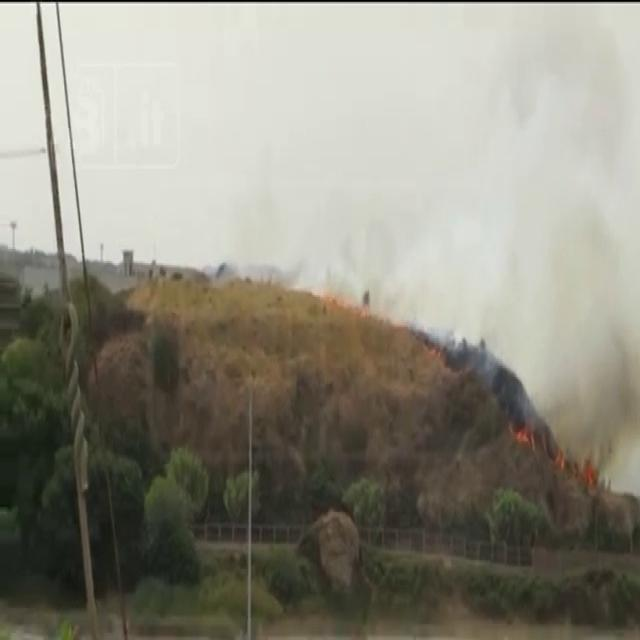Fire: (513, 424, 602, 489)
Smoke: (592, 345, 640, 417)
